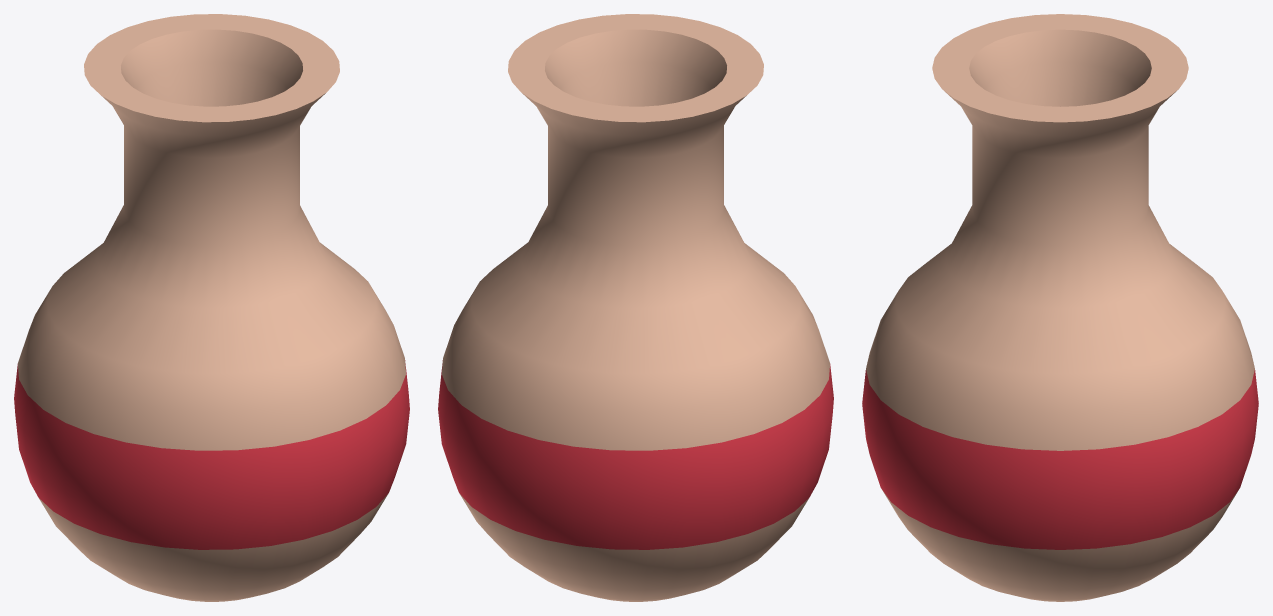
3 renders of one model, left to right at view 1: azimuth 30°, elevation 25°; view 2: azimuth 150°, elevation 25°; view 3: azimuth 270°, elevation 25°, orthographic.
Parts seen in each view (by area): view 1: Sphere; view 2: Sphere; view 3: Sphere.
Boxes of the visible parts, left/top/right/bottom form: Sphere: left=14, top=14, right=409, bottom=601; Sphere: left=438, top=14, right=833, bottom=601; Sphere: left=862, top=14, right=1258, bottom=601.
Size of the model in its own units: 2 by 2.87 by 2.
